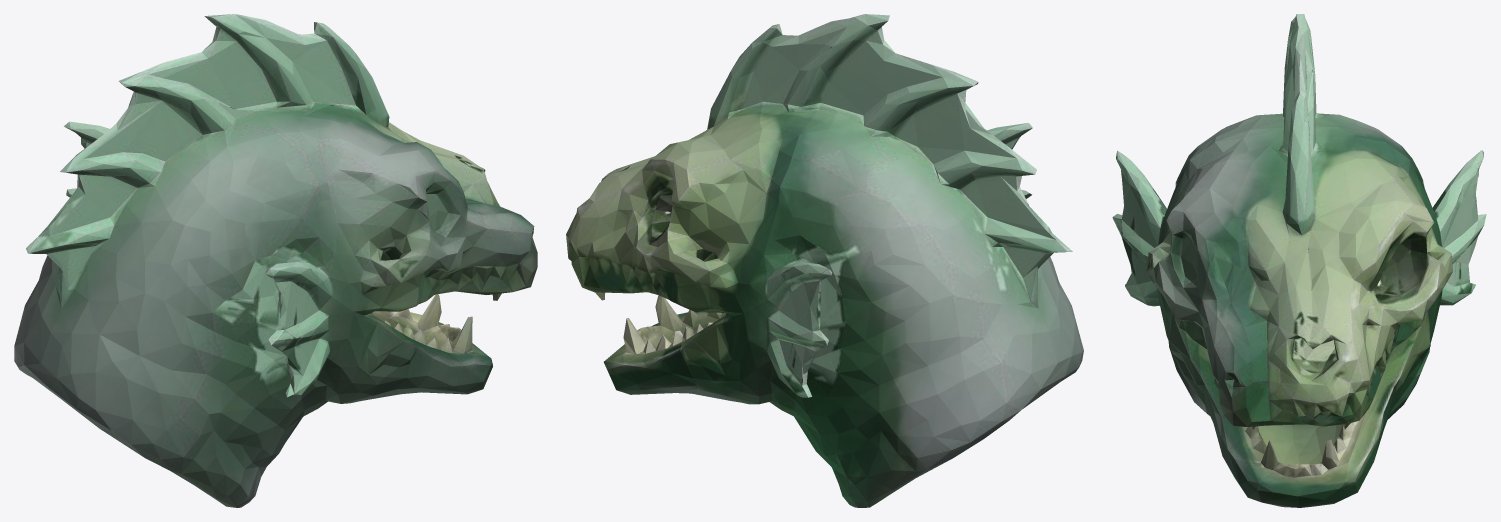
Rendered from foe_serpent.glb.
3 renders of one model, left to right at view 1: azimuth 30°, elevation 25°; view 2: azimuth 150°, elevation 25°; view 3: azimuth 270°, elevation 25°, orthographic. The views are drawn at different scales.
Parts seen in each view (by area): view 1: tripo_node_839e64d0-922c-4174-85e1-850043dee1f0.001; view 2: tripo_node_839e64d0-922c-4174-85e1-850043dee1f0.001; view 3: tripo_node_839e64d0-922c-4174-85e1-850043dee1f0.001.
Part boxes in pixels (box(x1,y1,x2,y2)): tripo_node_839e64d0-922c-4174-85e1-850043dee1f0.001: box(14, 14, 537, 507); tripo_node_839e64d0-922c-4174-85e1-850043dee1f0.001: box(566, 14, 1083, 507); tripo_node_839e64d0-922c-4174-85e1-850043dee1f0.001: box(1112, 14, 1486, 507).
Bounding box in the file's own units: 0.9975 × 0.9277 × 0.7308.
1 material, 1 textured.
